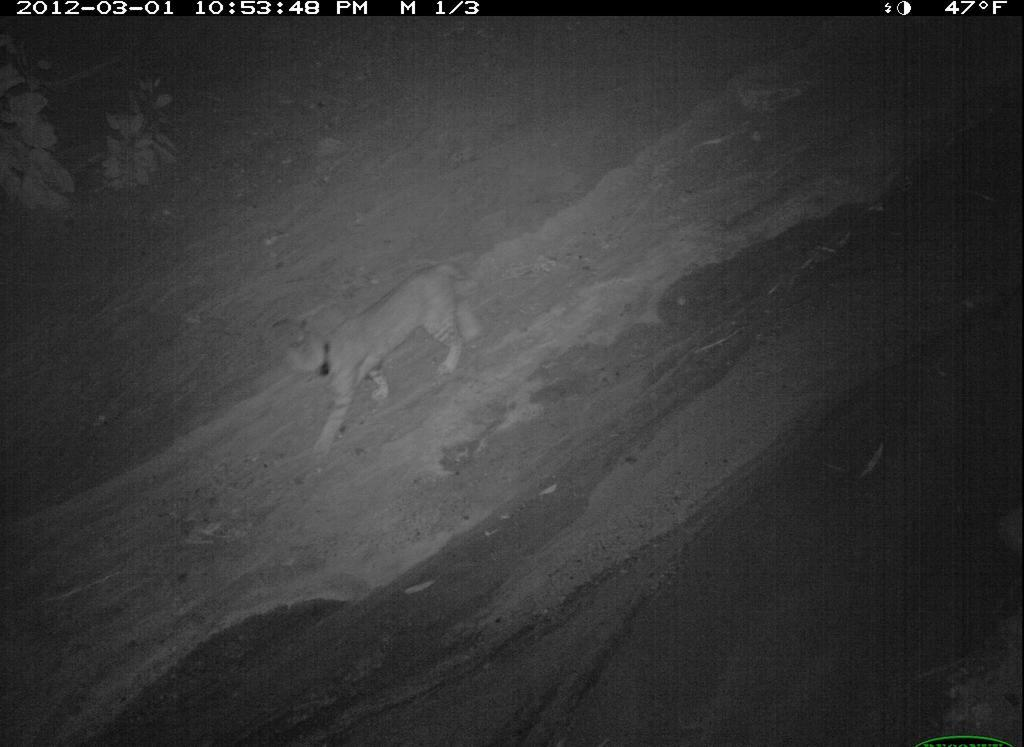bobcat: (551, 511, 971, 747)
